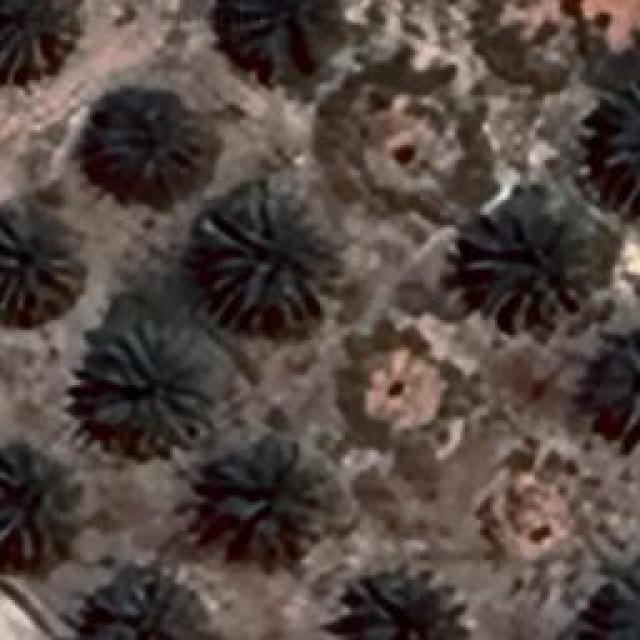PalmTree: (180, 436, 332, 566), (200, 195, 340, 330), (75, 325, 210, 450), (78, 84, 214, 208), (460, 208, 595, 328), (0, 200, 85, 318), (0, 440, 80, 558), (225, 0, 333, 78), (85, 574, 215, 638), (575, 328, 640, 452), (345, 574, 470, 638), (0, 0, 78, 78), (552, 572, 640, 640), (600, 78, 638, 200)
